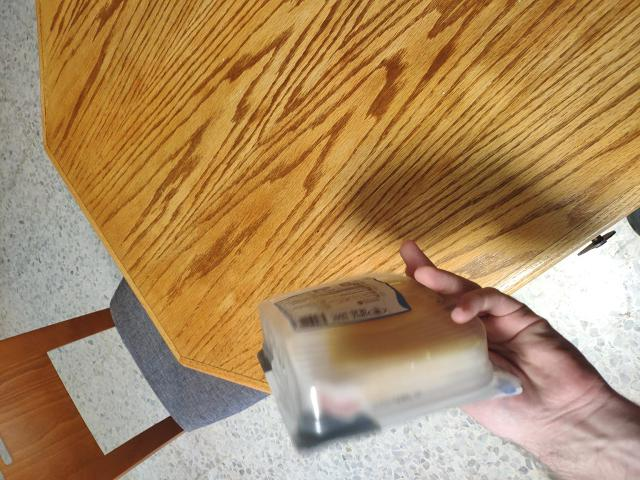cheese: (248, 264, 495, 448)
